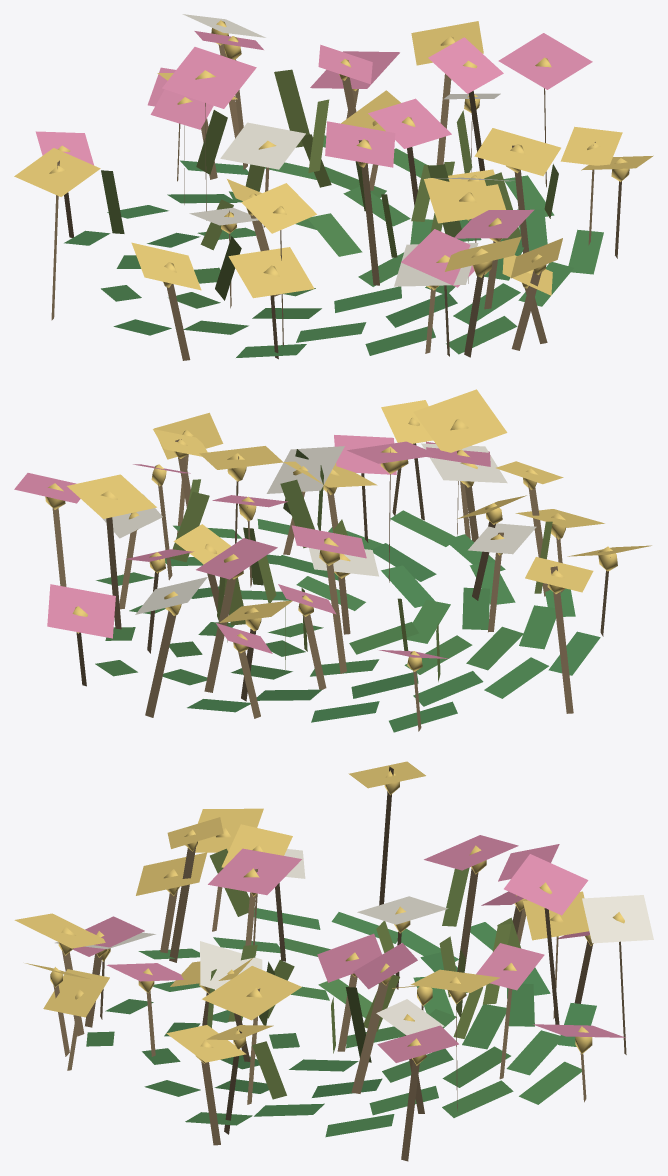
Rendered from flower_patch_far.glb.
3 renders of one model, top to bottom at view 1: azimuth 30°, elevation 25°; view 2: azimuth 150°, elevation 25°; view 3: azimuth 270°, elevation 25°, orthographic. The views are drawn at different scales.
Visible parts, largest first — view 1: flower_patch; view 2: flower_patch; view 3: flower_patch.
Boxes of the visible parts, x1=… form: flower_patch: x1=14, y1=14, x2=653, y2=360; flower_patch: x1=14, y1=389, x2=651, y2=732; flower_patch: x1=14, y1=761, x2=653, y2=1161.
Size of the model in its own units: 1.59 by 0.4536 by 1.53.
